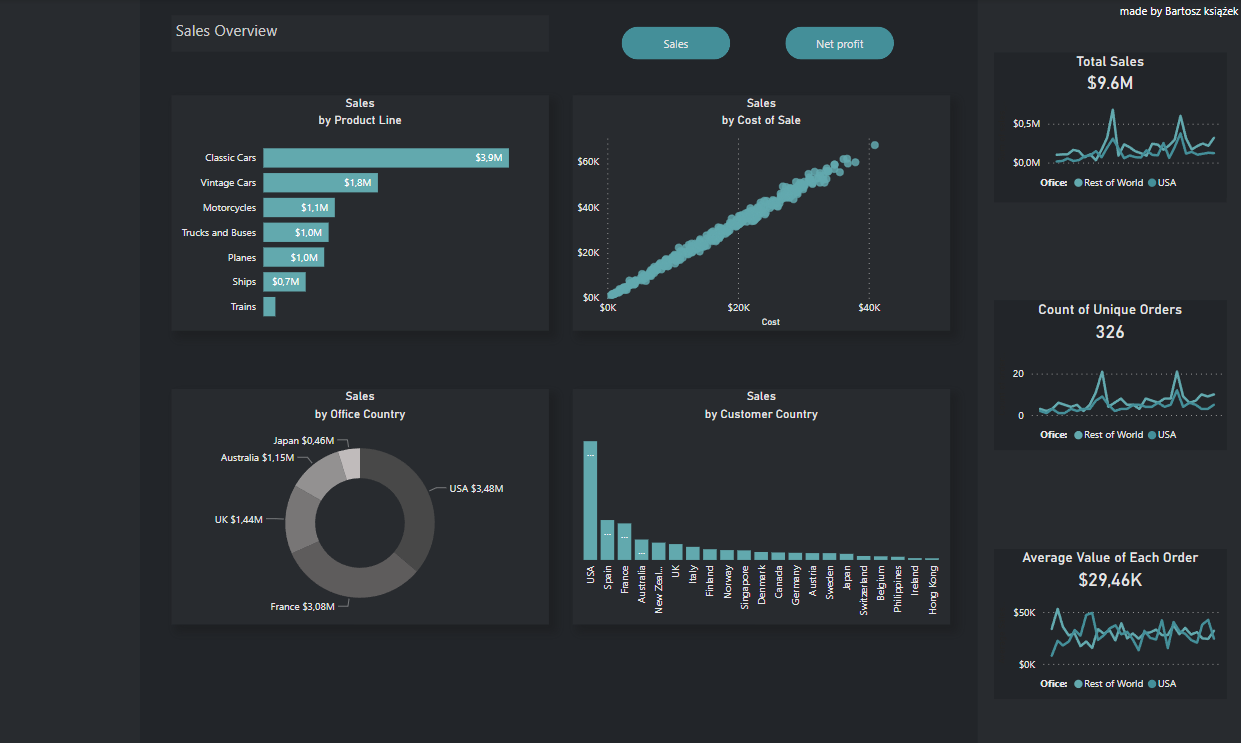

What the dashboard file says about the page in this screenshot:
{"tool":"powerbi","page":{"name":"Sales Overview - Page 1","canvas":[1500,900],"ordinal":0},"visuals":[{"type":"shape","box":[0,0,170,900],"z":0},{"type":"shape","box":[1180.5,0,320,900],"z":1000},{"type":"shape","box":[1200,64.4,280.5,180.5],"z":2000},{"type":"shape","box":[1200,363.8,280.5,180.5],"z":3000},{"type":"shape","box":[1200,663.2,280.5,180.5],"z":4000},{"type":"card","title":"Total Sales","fields":{"Values":["Sum(classicmodels sales_data_for_power_bi.sales_value)"]},"box":[1200,64.4,280.5,52.9],"z":5000},{"type":"card","title":"Count of Unique Orders","fields":{"Values":["Count(classicmodels sales_data_for_power_bi.ordernumber)"]},"box":[1200,363.2,280.5,55.2],"z":6000},{"type":"card","title":"Average Value of Each Order","fields":{"Values":["classicmodels sales_data_for_power_bi.Average Sales Value per Order"]},"box":[1200,663.2,280.5,55.2],"z":7000},{"type":"lineChart","fields":{"Y":["Sum(classicmodels sales_data_for_power_bi.sales_value)"],"Category":["classicmodels sales_data_for_power_bi.orderdate.Variation.Date Hierarchy.Year","classicmodels sales_data_for_power_bi.orderdate.Variation.Date Hierarchy.Quarter","classicmodels sales_data_for_power_bi.orderdate.Variation.Date Hierarchy.Month"],"Series":["classicmodels sales_data_for_power_bi.Ofice Grouped"]},"box":[1200,109.2,280.5,131],"z":8000},{"type":"lineChart","fields":{"Category":["classicmodels sales_data_for_power_bi.orderdate.Variation.Date Hierarchy.Year","classicmodels sales_data_for_power_bi.orderdate.Variation.Date Hierarchy.Quarter","classicmodels sales_data_for_power_bi.orderdate.Variation.Date Hierarchy.Month"],"Series":["classicmodels sales_data_for_power_bi.Ofice Grouped"],"Y":["Count(classicmodels sales_data_for_power_bi.ordernumber)"]},"box":[1200,412.6,280.5,131],"z":9000},{"type":"lineChart","fields":{"Category":["classicmodels sales_data_for_power_bi.orderdate.Variation.Date Hierarchy.Year","classicmodels sales_data_for_power_bi.orderdate.Variation.Date Hierarchy.Quarter","classicmodels sales_data_for_power_bi.orderdate.Variation.Date Hierarchy.Month"],"Series":["classicmodels sales_data_for_power_bi.Ofice Grouped"],"Y":["classicmodels sales_data_for_power_bi.Average Sales Value per Order"]},"box":[1200,712.6,280.5,131],"z":10000},{"type":"clusteredBarChart","fields":{"Y":["Table.Selected Metric"],"Category":["classicmodels sales_data_for_power_bi.productLine"]},"box":[208.8,116.2,455,283.8],"z":11000},{"type":"actionButton","box":[750,32.5,131.2,40],"z":12000},{"type":"actionButton","box":[948.8,32.5,131.2,40],"z":13000},{"type":"scatterChart","fields":{"Y":["Table.Selected Metric"],"X":["Sum(classicmodels sales_data_for_power_bi.cost_of_sales)"],"Category":["classicmodels sales_data_for_power_bi.ordernumber"]},"box":[692.5,116.2,455,283.8],"z":15000},{"type":"donutChart","fields":{"Y":["Table.Selected Metric"],"Category":["classicmodels sales_data_for_power_bi.office_country"]},"box":[208.8,470,455,283.8],"z":16000},{"type":"columnChart","fields":{"Y":["Table.Selected Metric"],"Category":["classicmodels sales_data_for_power_bi.customer_country"]},"box":[692.5,470,455,283.8],"z":17000},{"type":"textbox","box":[208.8,20,455,43.8],"z":18000},{"type":"textbox","box":[1311.6,0,188.4,33.2],"z":19000}]}

Visuals, with their boxes in screenshot pixels (x1, y1, x2, y2), scaled from the page's 1500x900 canvas onto the 1241x743 screenshot:
shape: (x1=0, y1=0, x2=141, y2=742)
shape: (x1=977, y1=0, x2=1240, y2=742)
shape: (x1=993, y1=53, x2=1225, y2=202)
shape: (x1=993, y1=300, x2=1225, y2=449)
shape: (x1=993, y1=548, x2=1225, y2=697)
"Total Sales" card: (x1=993, y1=53, x2=1225, y2=97)
"Count of Unique Orders" card: (x1=993, y1=300, x2=1225, y2=345)
"Average Value of Each Order" card: (x1=993, y1=548, x2=1225, y2=593)
lineChart - Sum(classicmodels sales_data_for_power_bi.sales_value) x classicmodels sales_data_for_power_bi.orderdate.Variation.Date Hierarchy.Year: (x1=993, y1=90, x2=1225, y2=198)
lineChart - classicmodels sales_data_for_power_bi.orderdate.Variation.Date Hierarchy.Year x classicmodels sales_data_for_power_bi.orderdate.Variation.Date Hierarchy.Quarter: (x1=993, y1=341, x2=1225, y2=449)
lineChart - classicmodels sales_data_for_power_bi.orderdate.Variation.Date Hierarchy.Year x classicmodels sales_data_for_power_bi.orderdate.Variation.Date Hierarchy.Quarter: (x1=993, y1=588, x2=1225, y2=696)
clusteredBarChart - Table.Selected Metric x classicmodels sales_data_for_power_bi.productLine: (x1=173, y1=96, x2=549, y2=330)
actionButton: (x1=620, y1=27, x2=729, y2=60)
actionButton: (x1=785, y1=27, x2=894, y2=60)
scatterChart - Table.Selected Metric x Sum(classicmodels sales_data_for_power_bi.cost_of_sales): (x1=573, y1=96, x2=949, y2=330)
donutChart - Table.Selected Metric x classicmodels sales_data_for_power_bi.office_country: (x1=173, y1=388, x2=549, y2=622)
columnChart - Table.Selected Metric x classicmodels sales_data_for_power_bi.customer_country: (x1=573, y1=388, x2=949, y2=622)
textbox: (x1=173, y1=17, x2=549, y2=53)
textbox: (x1=1085, y1=0, x2=1240, y2=27)
